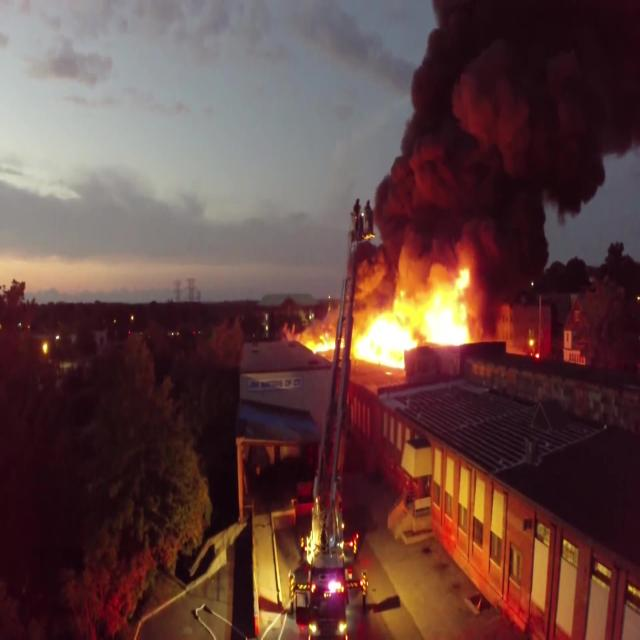Fire: (284, 233, 482, 384)
Smoke: (286, 0, 638, 356)
